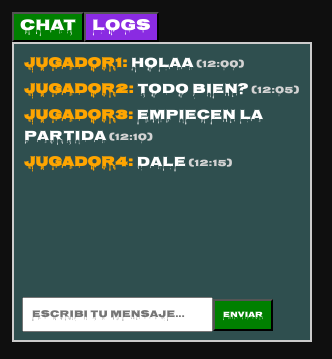
Test: Renderiza correctamente el componente Chat con mensajes y logs
Expected: the button "Enviar" is shown, [213,298,273,330]
Expected: the field with placeholder "Escribi tu mensaje..." is shown, [22,297,213,332]
Note: cambia al modo de visualizacion de logs
Click the button "Logs" at x=121, y=27, box [84,12,159,42]
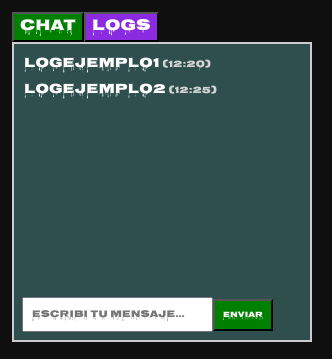
Expected: the text "LogEjemplo1" is shown, [24,52,160,76]
Expected: the text "LogEjemplo2" is shown, [24,78,166,102]
